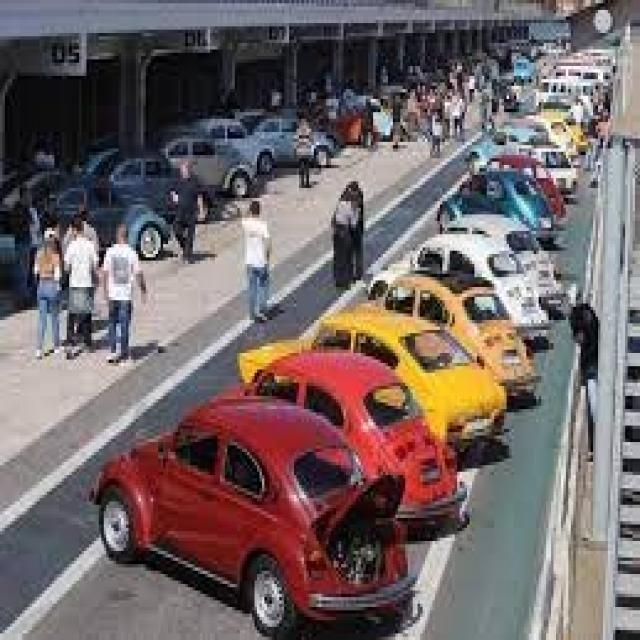0: (258, 298, 506, 458)
cars: (78, 401, 420, 624), (221, 351, 467, 543)
